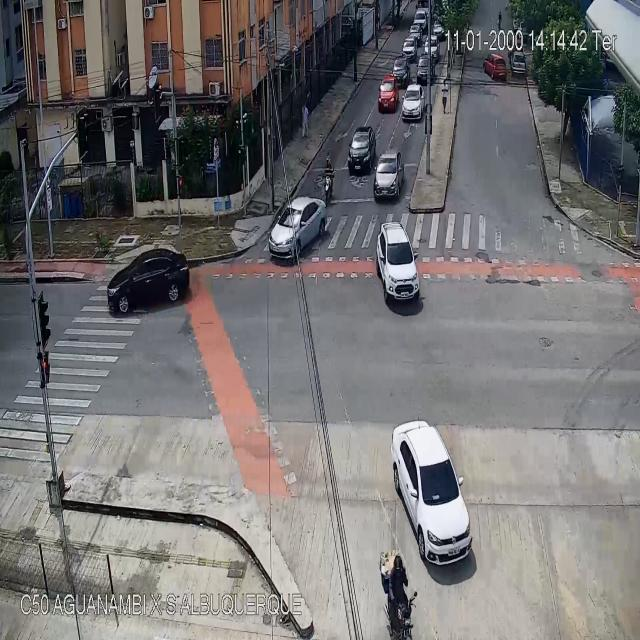Car: (392, 421, 471, 563), (107, 247, 189, 314), (269, 195, 327, 259), (376, 221, 421, 303), (375, 152, 404, 201), (348, 127, 375, 173), (403, 82, 422, 121), (379, 75, 397, 114), (483, 54, 508, 82), (415, 58, 436, 87), (391, 56, 409, 82), (512, 50, 526, 75), (414, 8, 428, 30), (403, 38, 417, 57), (426, 37, 438, 58), (408, 23, 421, 40), (432, 21, 444, 38)
Motorcycle: (380, 550, 414, 640), (324, 152, 334, 200)
